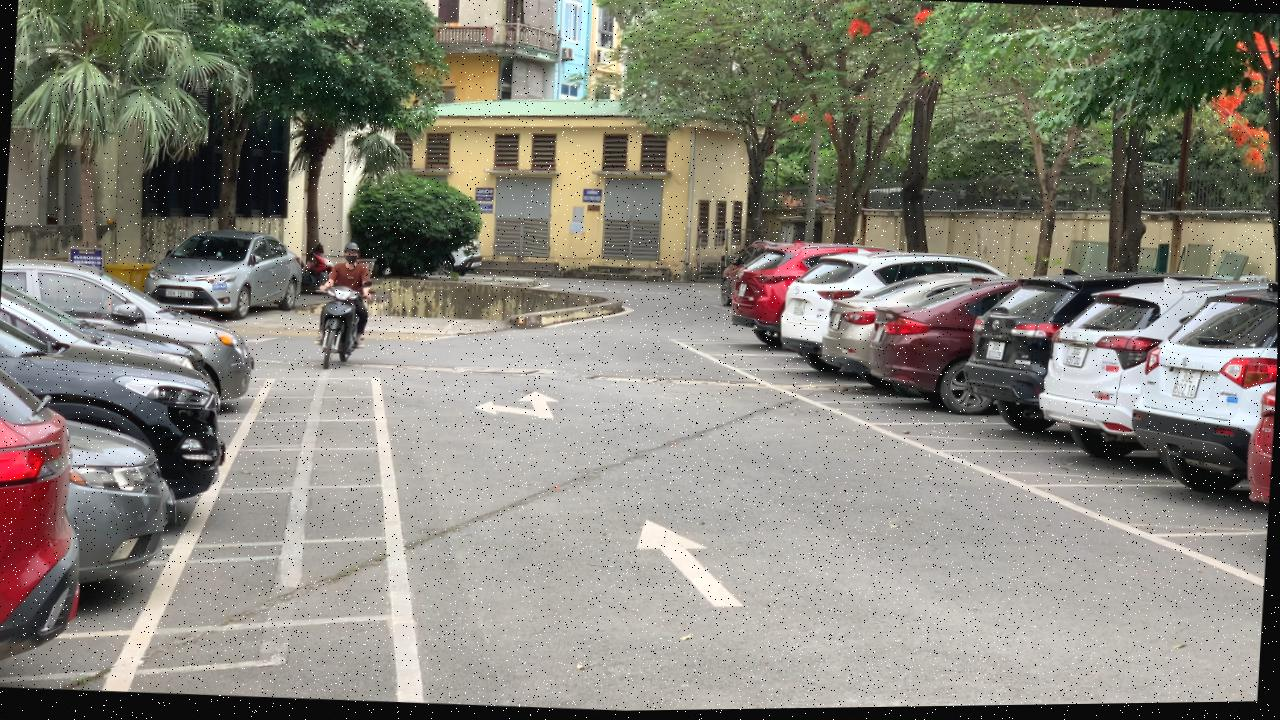helmet: (344, 243, 360, 253)
motorcyclist: (310, 242, 376, 372)
